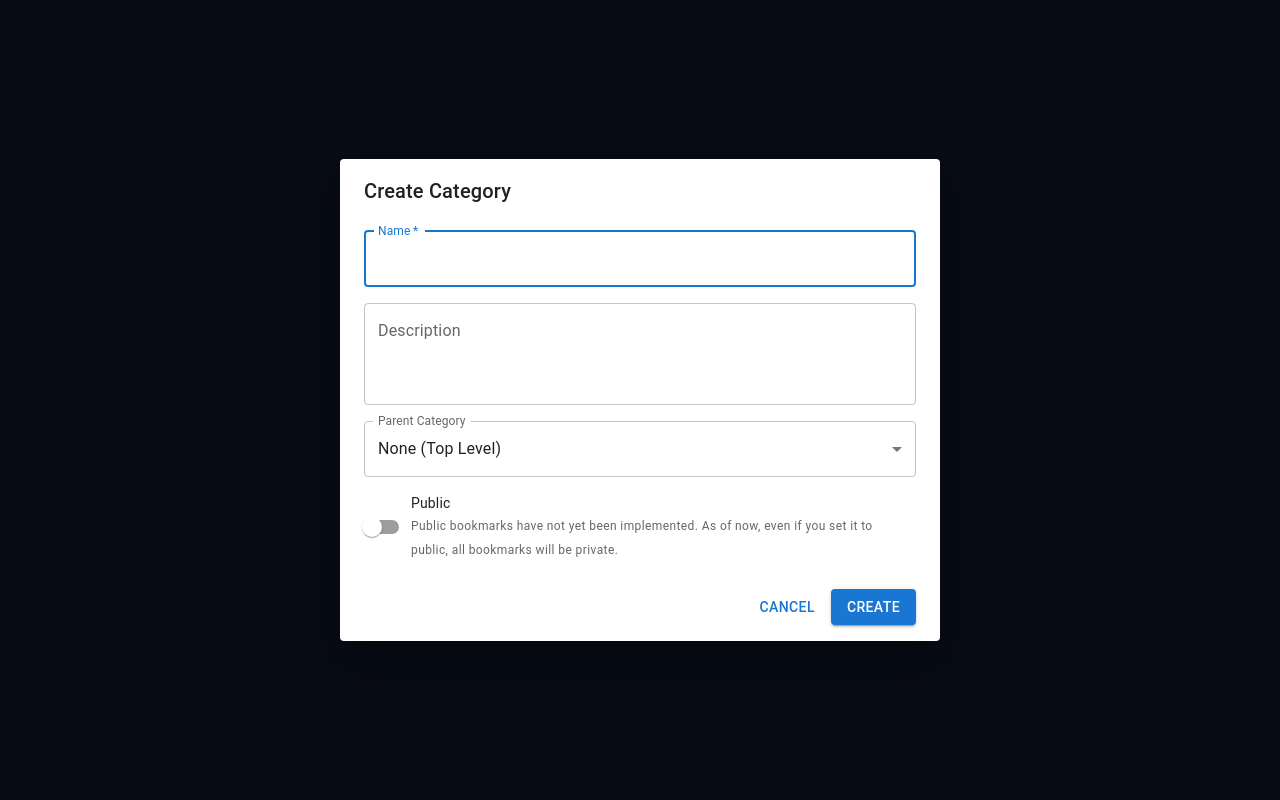
Test: CategoryFormModal › Form Validation - Name › should show error when name is < 2 characters
Type "A" into the field with test id "category-form-modal-name-input" at (640, 259), box x1=364 y1=231 x2=916 y2=287
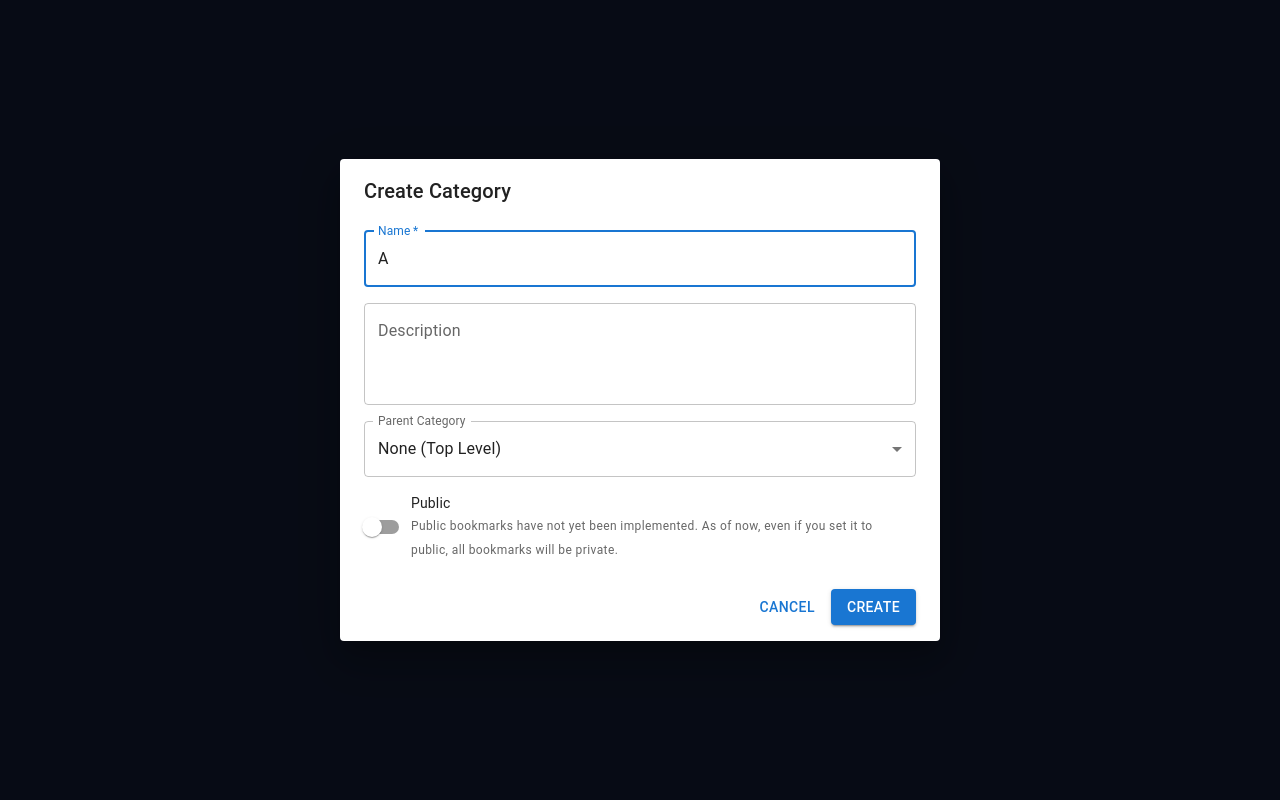
Click the button "Create" at (873, 607), box x1=831 y1=589 x2=916 y2=625
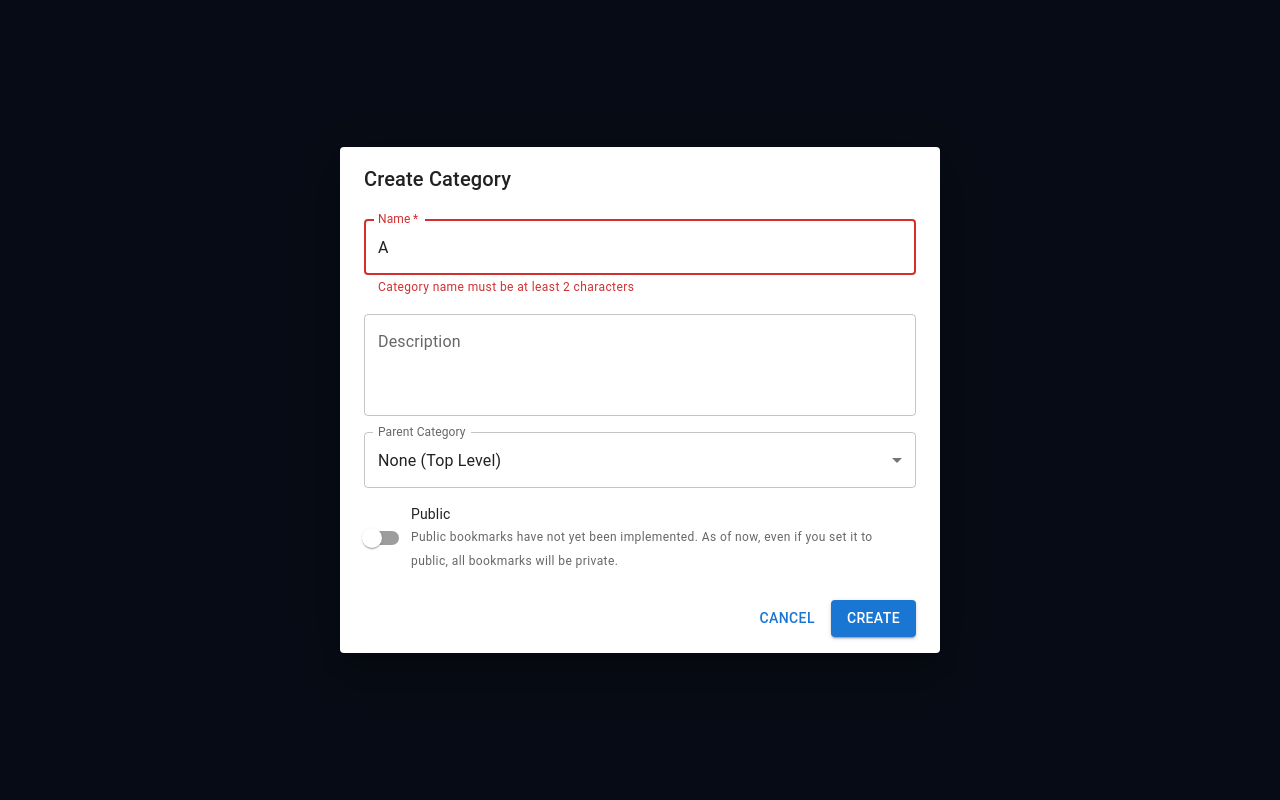
Check: the text "Category name must be at least 2 characters" is shown, box x1=378 y1=280 x2=634 y2=294
